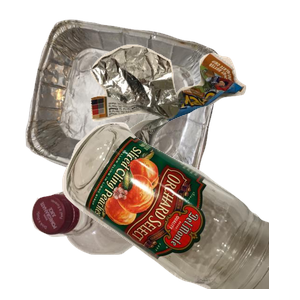glass: (60, 120, 300, 300)
metal: (23, 17, 236, 197)
plastic: (29, 166, 183, 300)
trash: (88, 42, 300, 219)
